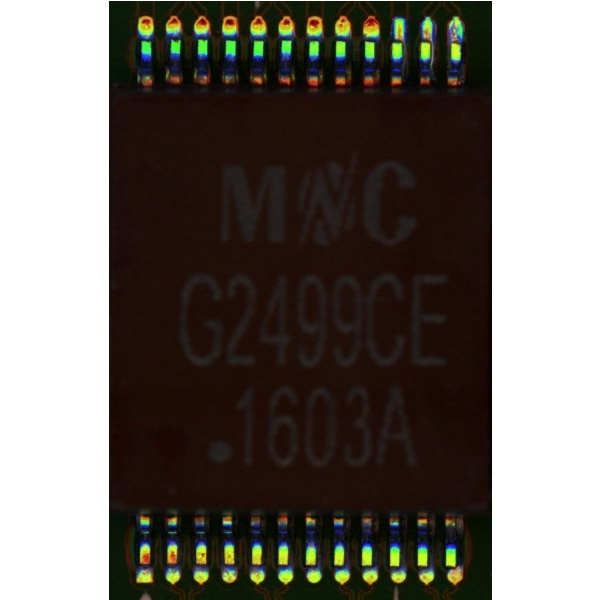Bad_podu: (424, 28, 431, 47), (396, 28, 402, 50)
Bad_qiaojiao: (431, 41, 434, 70)
